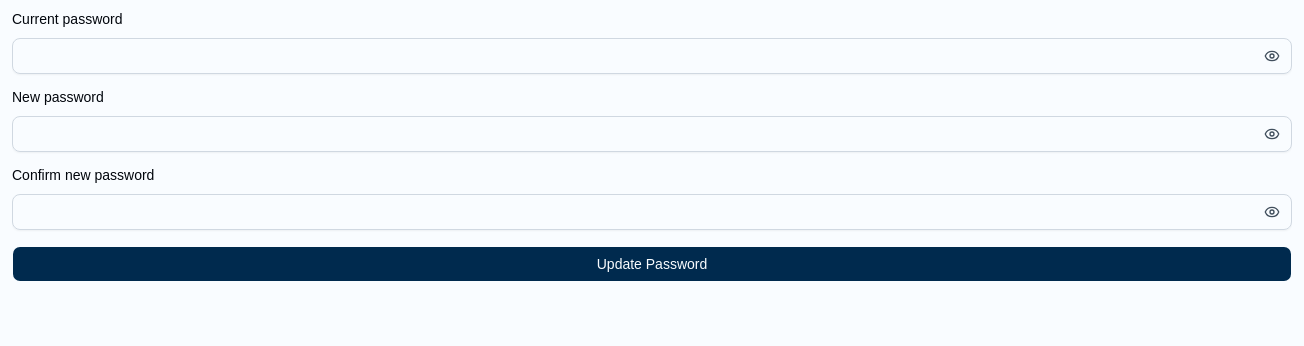
Test: ChangePasswordForm validation › shows current-password-required error on empty submit (CP-001)
Click the button "Update Password" at [652, 264], box [12,246,1292,282]
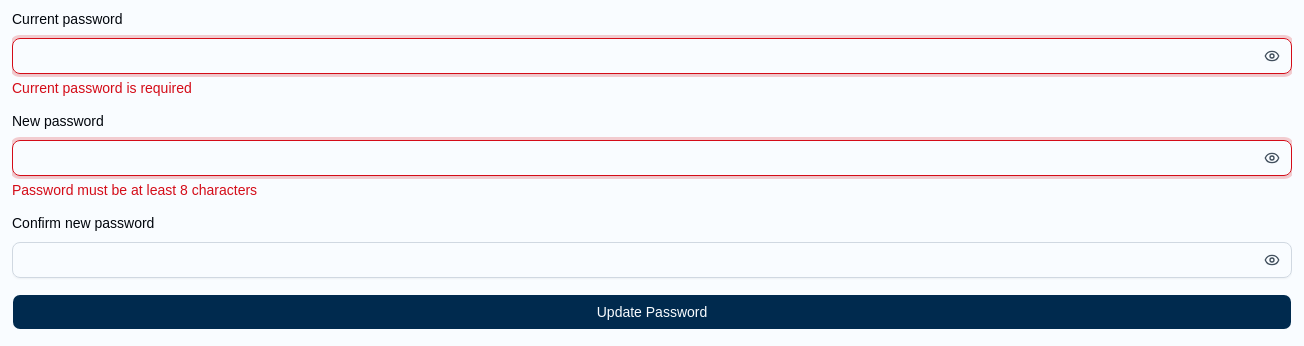
expect the text "Current password is required" is shown: met, box [12,80,192,96]
